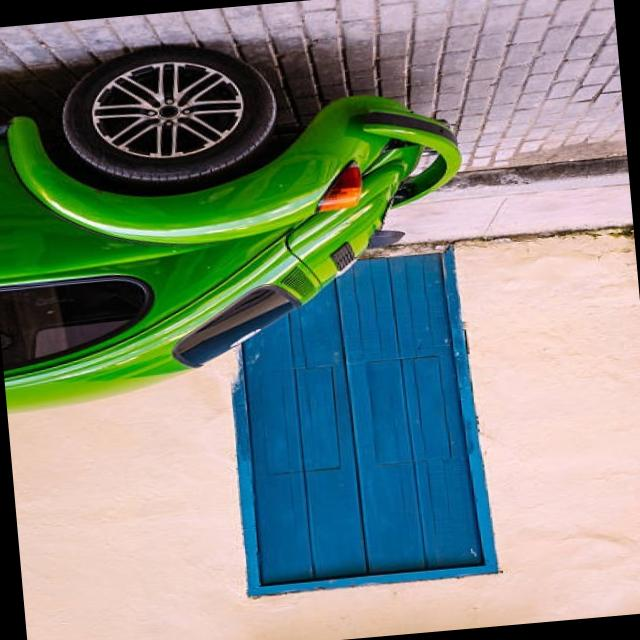car: (0, 50, 478, 404)
